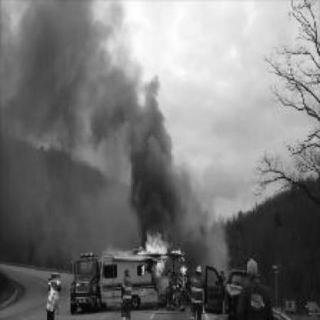Fire: (133, 231, 186, 289)
